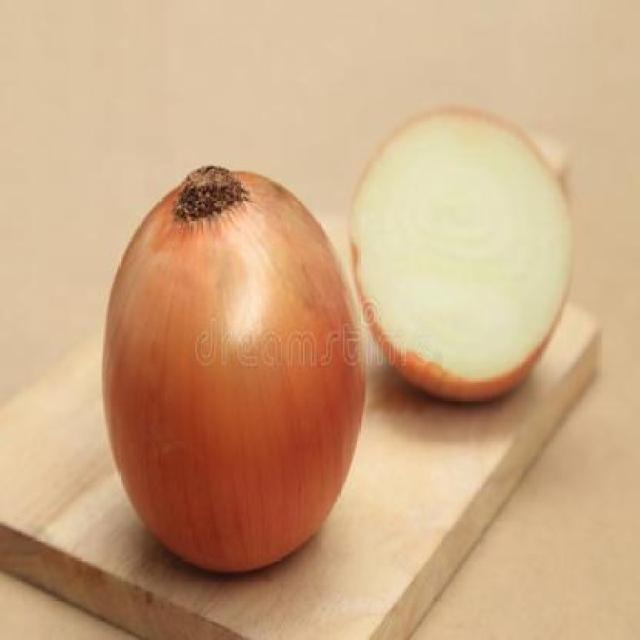Onion: (105, 166, 366, 574)
